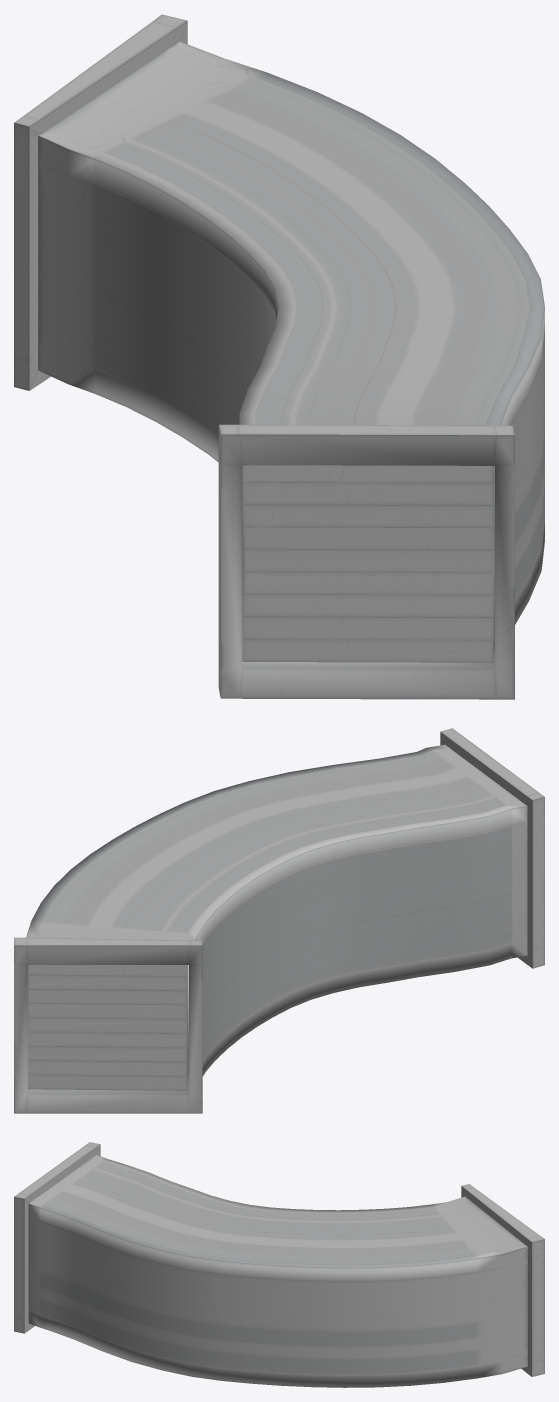
File: Vent.fbx
The picture shows the model from 3 angles, top to bottom: view 1: azimuth 30°, elevation 25°; view 2: azimuth 150°, elevation 25°; view 3: azimuth 270°, elevation 25°; orthographic projection. The views are drawn at different scales.
Parts seen in each view (by area): view 1: Cube.012; view 2: Cube.012; view 3: Cube.012.
Part boxes in pixels (x1,y1,x2,y2): Cube.012: [14, 14, 544, 699]; Cube.012: [14, 728, 544, 1113]; Cube.012: [14, 1142, 544, 1387].
Size of the model in its own units: 143 by 77.98 by 277.
1 material, 1 textured.
